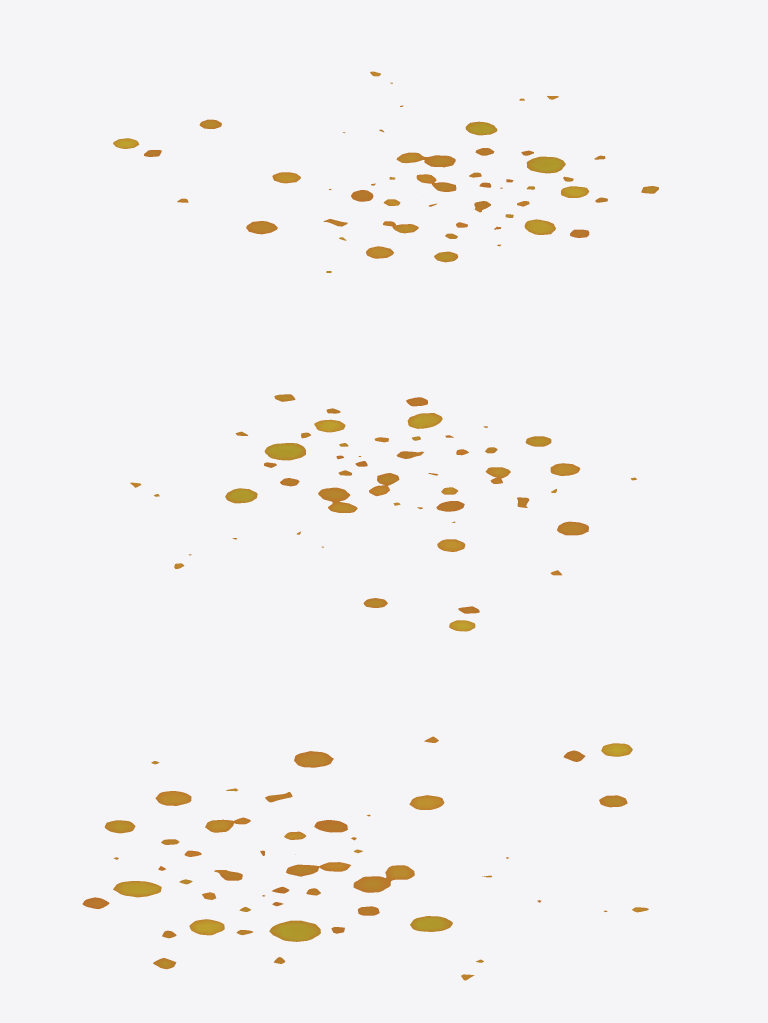
Rendered from Ground_Decal1_(1).fbx.
3 renders of one model, top to bottom at view 1: azimuth 30°, elevation 25°; view 2: azimuth 150°, elevation 25°; view 3: azimuth 270°, elevation 25°, orthographic. The views are drawn at different scales.
Visible parts, largest first — view 1: Ground_Decal1__1_; view 2: Ground_Decal1__1_; view 3: Ground_Decal1__1_.
Boxes of the visible parts, box(x1,y1,x2,y2) form: Ground_Decal1__1_: box(113, 71, 658, 272); Ground_Decal1__1_: box(130, 394, 636, 631); Ground_Decal1__1_: box(82, 736, 648, 980).
Size of the model in its own units: 221 by 0 by 221.
1 material, 1 textured.
